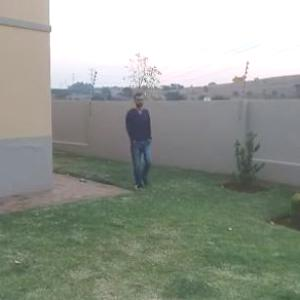follow: (122, 89, 156, 188)
